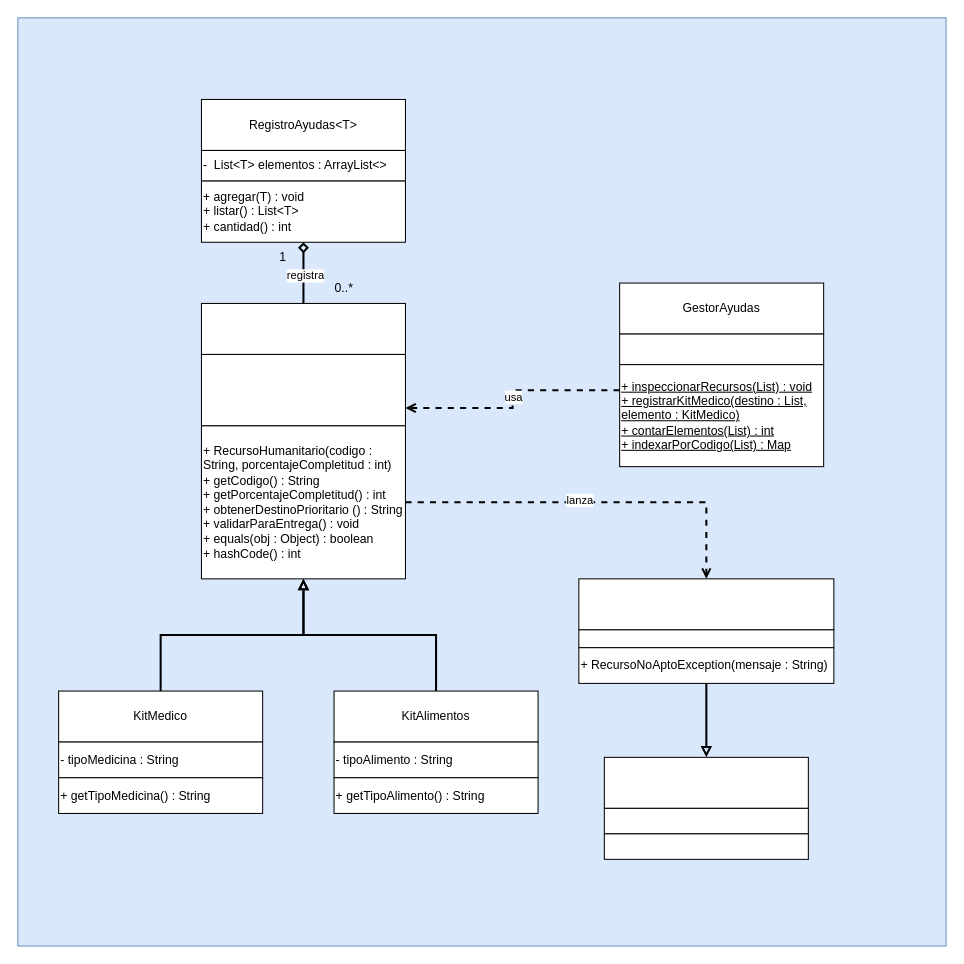
The diagram is 964 pixels wide and 964 high, and some of its shapes have lost their labels. Here are the shapes that lost their labels. From the top down, the centre of each, then its label:
At (302,328): "<<abstract>> RecursoHumanitario".
At (302,389): "- codigo : String - porcentajeCompletitud : int".
At (706,604): "RecursoNoAptoException".
At (705,782): "Exception".
